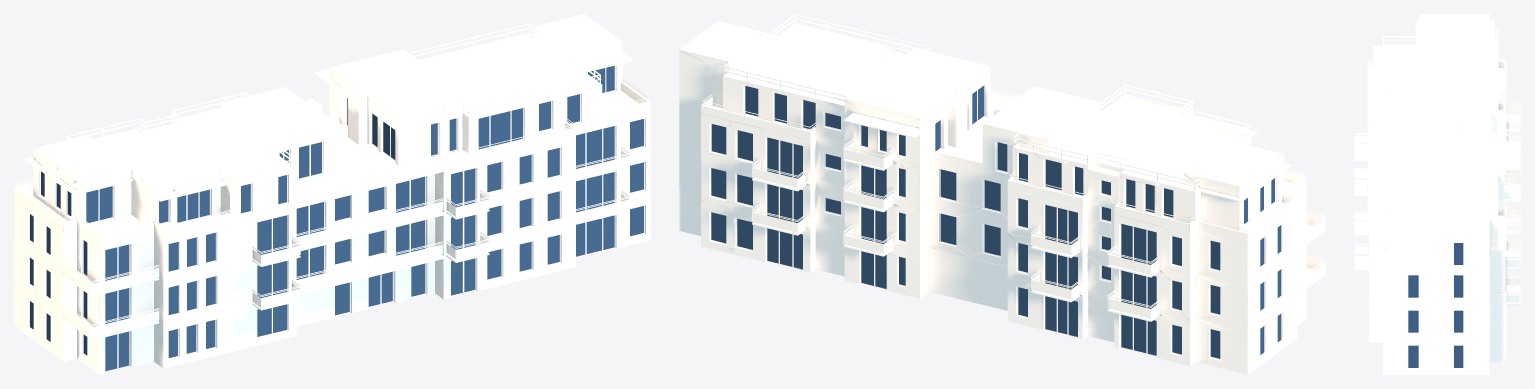
The picture shows the model from 3 angles, left to right: view 1: azimuth 30°, elevation 25°; view 2: azimuth 150°, elevation 25°; view 3: azimuth 270°, elevation 25°; orthographic projection. The views are drawn at different scales.
Visible parts, largest first — view 1: 3eme, toit, 2eme, 1er, RDC; view 2: 3eme, toit, 2eme, 1er, RDC; view 3: toit, 3eme, 2eme, 1er, RDC.
Boxes of the visible parts, box(x1,y1,x2,y2) form: 3eme: box(14, 26, 650, 244); toit: box(34, 14, 622, 193); 2eme: box(14, 110, 650, 296); 1er: box(14, 153, 650, 339); RDC: box(14, 197, 650, 374); 3eme: box(679, 33, 1306, 241); toit: box(679, 14, 1282, 191); 2eme: box(679, 98, 1325, 286); 1er: box(679, 142, 1325, 330); RDC: box(679, 186, 1306, 374); toit: box(1367, 14, 1504, 230); 3eme: box(1367, 20, 1520, 269); 2eme: box(1354, 96, 1520, 304); 1er: box(1354, 159, 1520, 339); RDC: box(1367, 209, 1506, 374).
Size of the model in its own units: 45.97 by 13.9 by 14.53.
